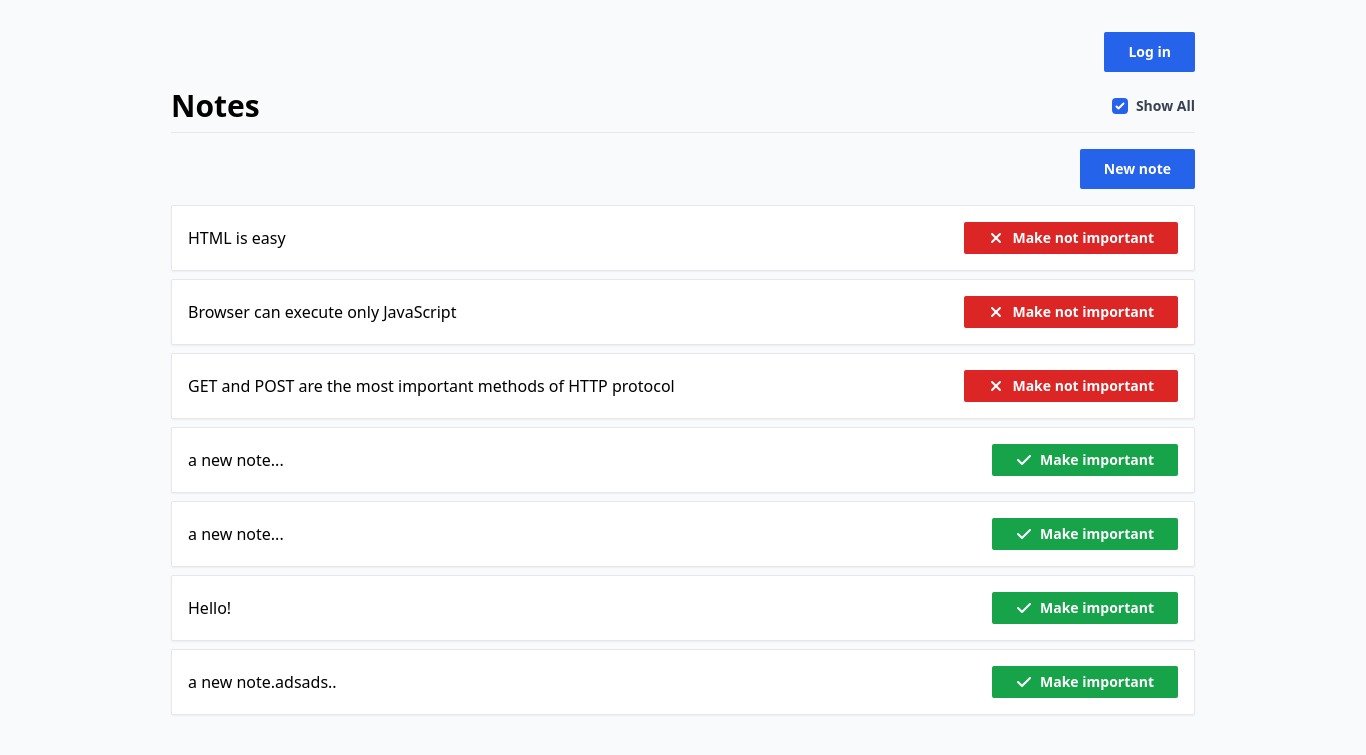
Note app › login fails with wrong password
Click the button "Log in". click: point(1151, 52)
box: left=1105, top=32, right=1196, bottom=72
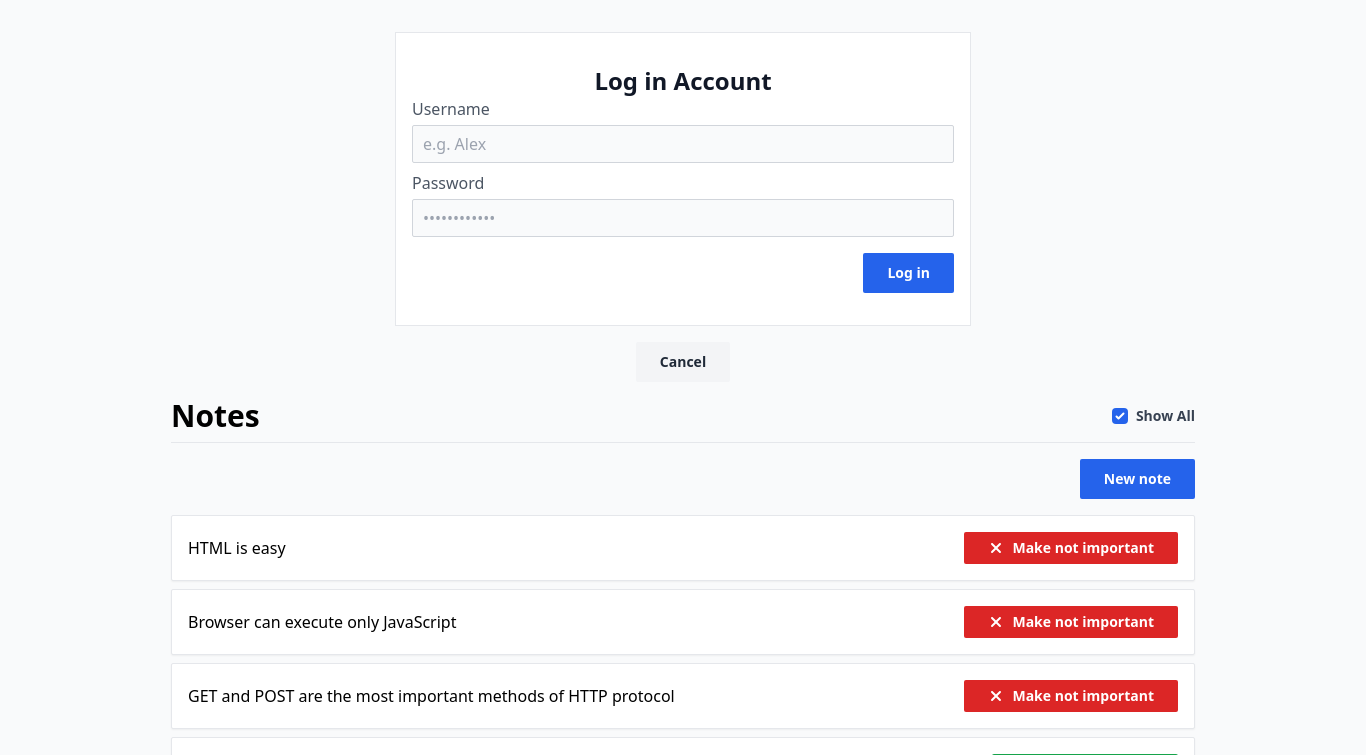
Type "root" into the field with test id "input-username". click: point(683, 144)
box: left=412, top=125, right=954, bottom=163
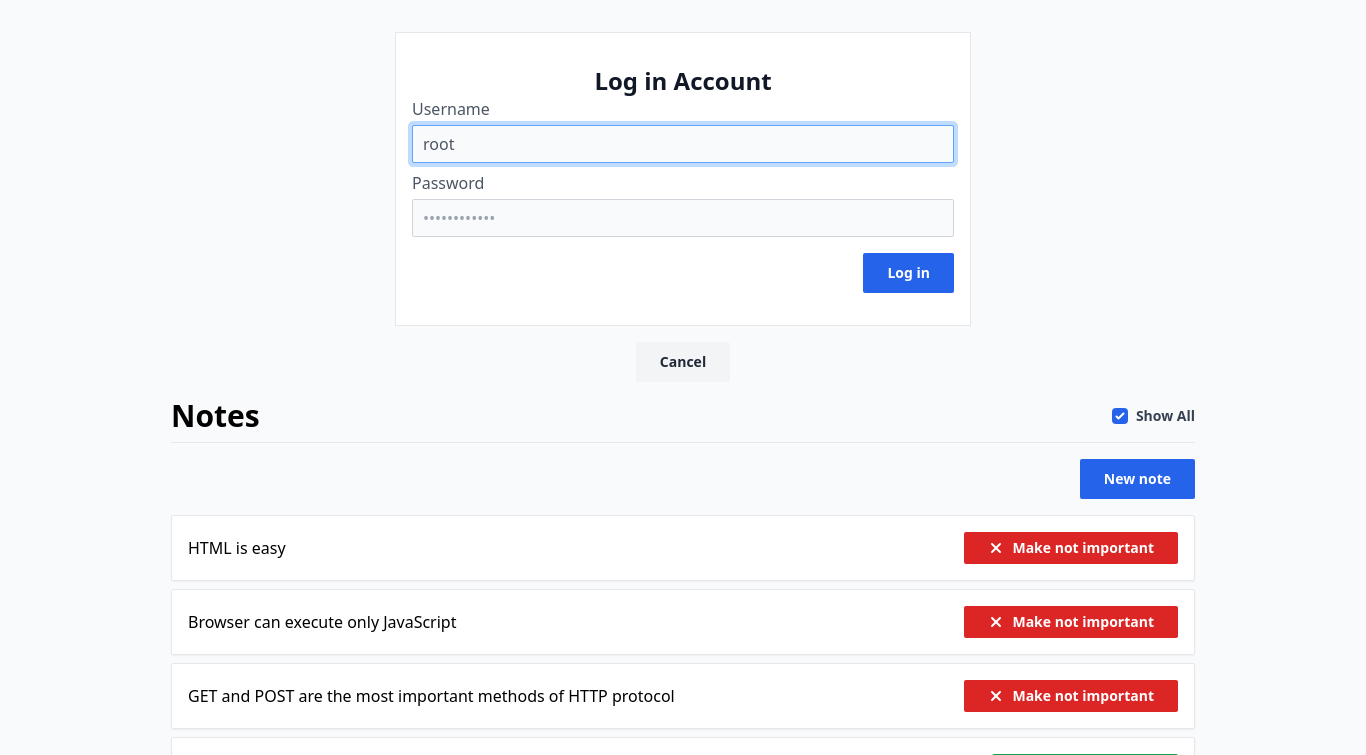
Type "invalidpassword" into the password field with test id "input-password". click: point(683, 218)
box: left=412, top=199, right=954, bottom=237
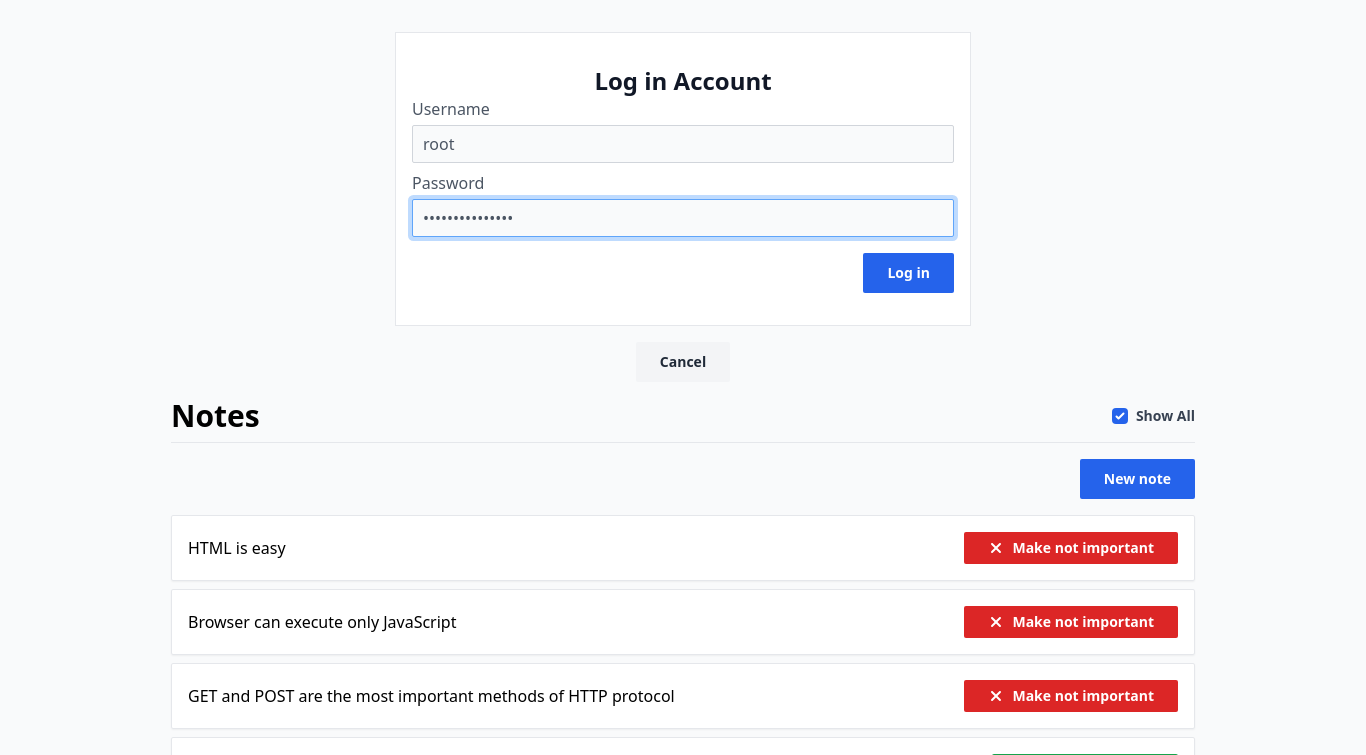
Click the button with test id "login-btn". click: point(910, 273)
box: left=864, top=253, right=955, bottom=293
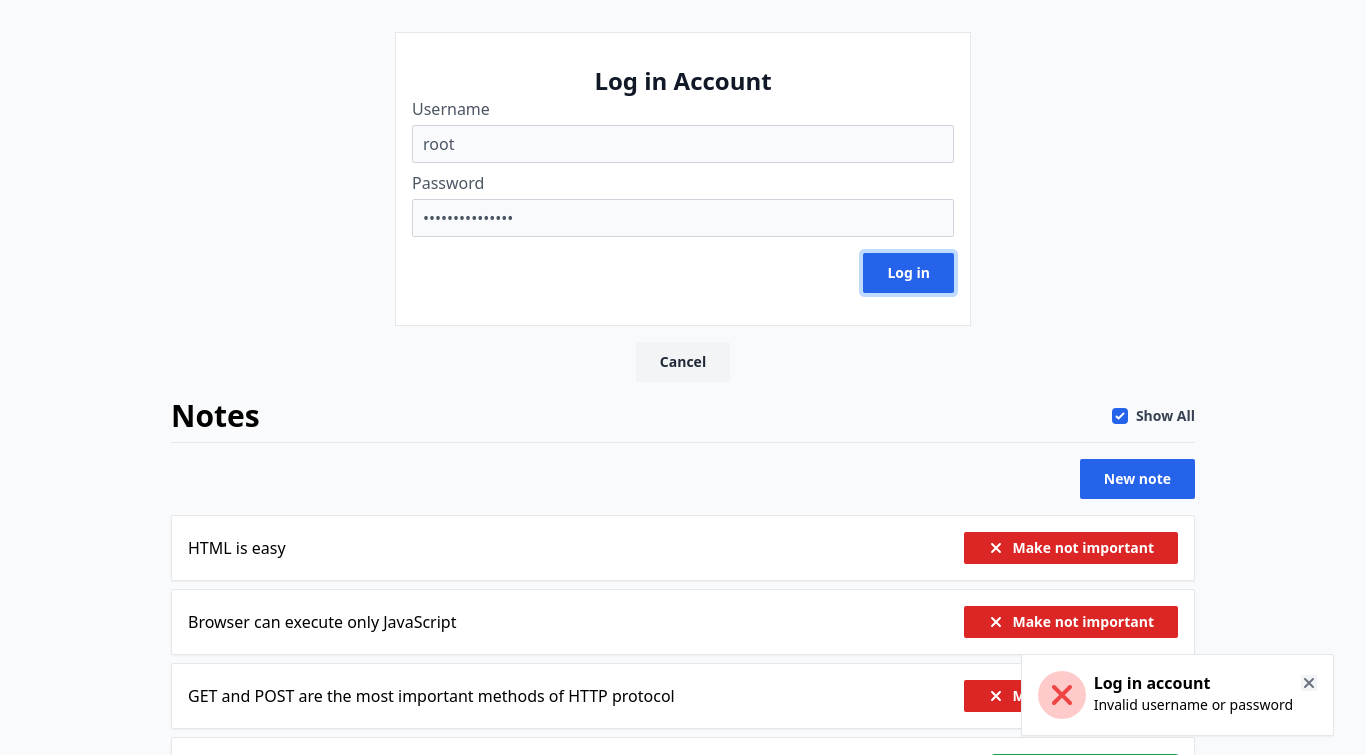
Result: the text with test id "toast" reads "Invalid username or password" at left=1094, top=695, right=1293, bottom=714
